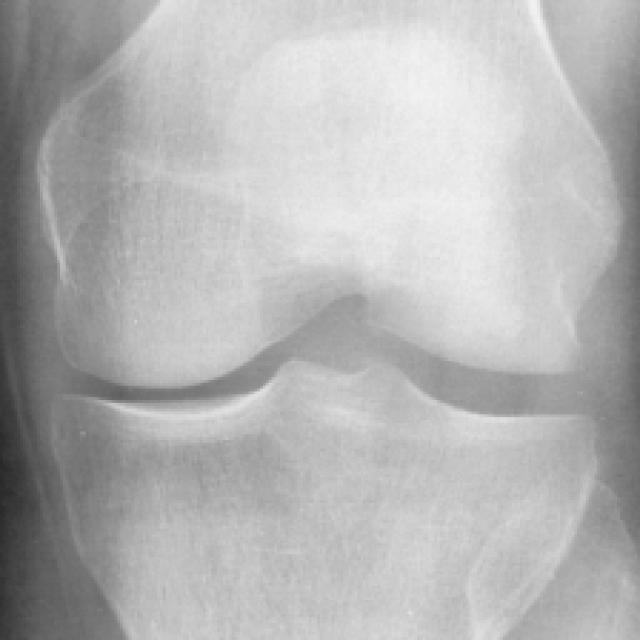femur: (40, 0, 625, 386)
tibia: (51, 360, 597, 640)
